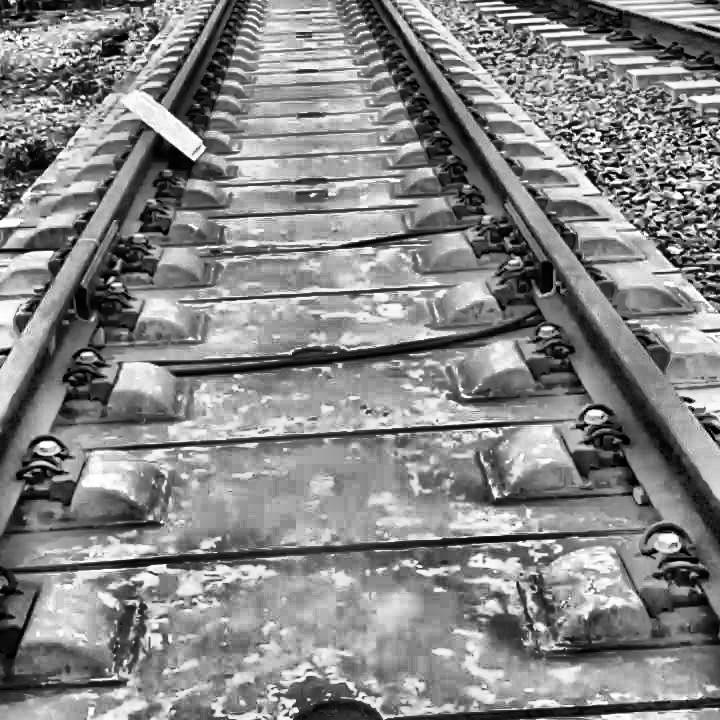Trash: (124, 76, 211, 164)
